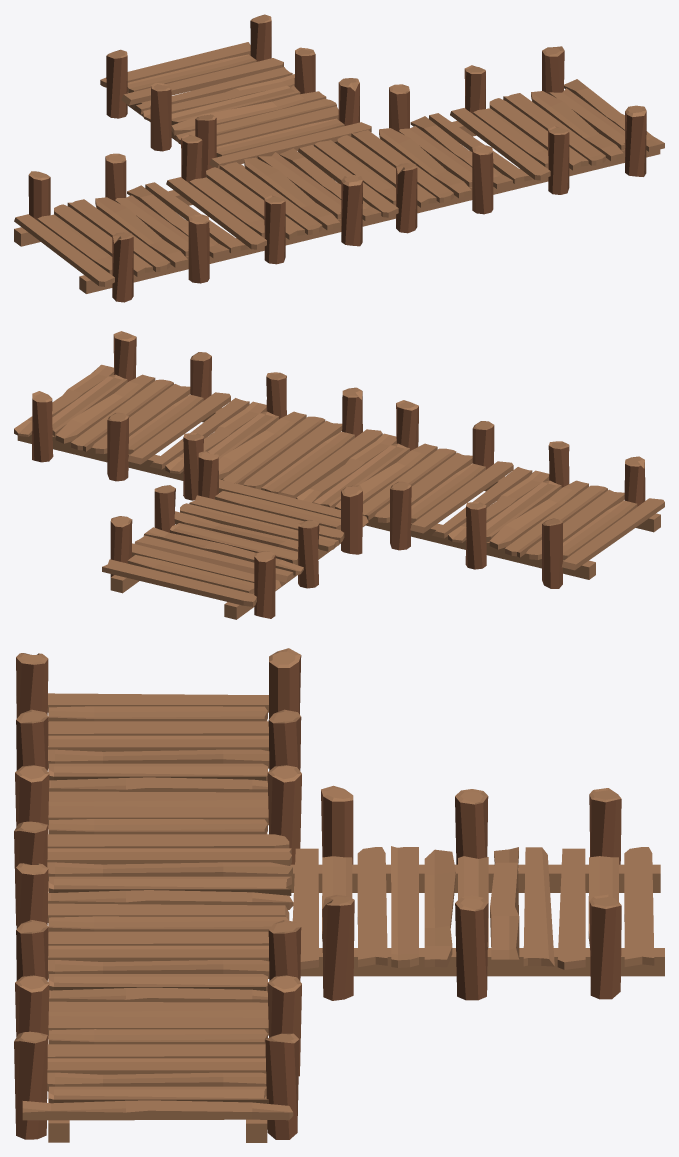
Rendered from Cais_Três_Entradas.fbx.
3 renders of one model, top to bottom at view 1: azimuth 30°, elevation 25°; view 2: azimuth 150°, elevation 25°; view 3: azimuth 270°, elevation 25°, orthographic. The views are drawn at different scales.
Visible parts, largest first — view 1: Plane; view 2: Plane; view 3: Plane.
Boxes of the visible parts, x1,y1,x2,y2 form: Plane: (14,14,664,302); Plane: (14,331,664,619); Plane: (14,648,664,1142).
Bounding box in the file's own units: 352 × 38.4 × 228.
